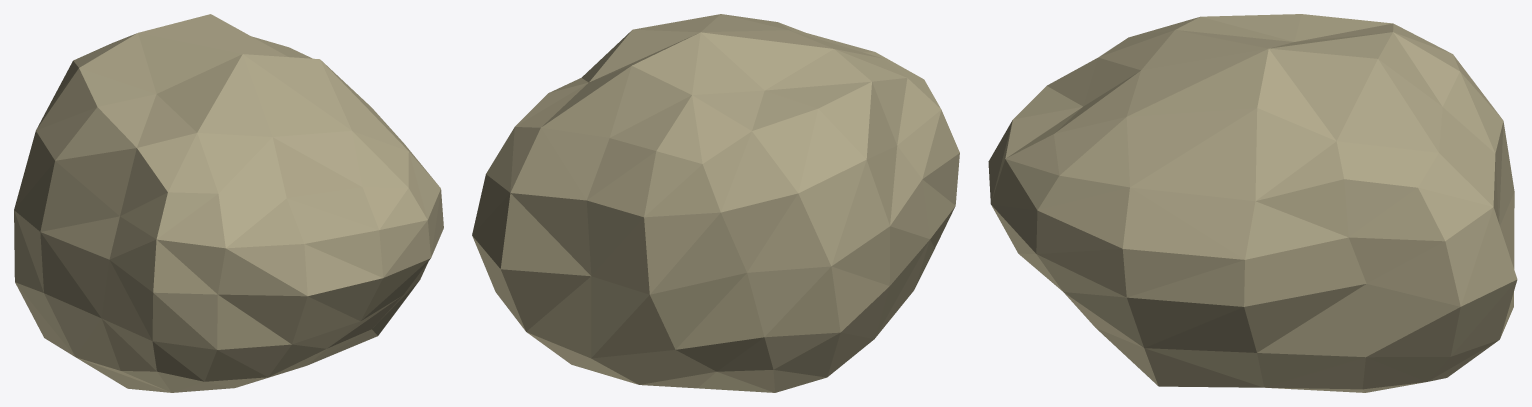
The model's file is _ock3.fbx.
3 renders of one model, left to right at view 1: azimuth 30°, elevation 25°; view 2: azimuth 150°, elevation 25°; view 3: azimuth 270°, elevation 25°, orthographic. The views are drawn at different scales.
Parts seen in each view (by area): view 1: Rock; view 2: Rock; view 3: Rock.
Boxes of the visible parts, box(x1,y1,x2,y2) form: Rock: box(14, 14, 443, 392); Rock: box(472, 14, 959, 392); Rock: box(988, 14, 1517, 392).
Size of the model in its own units: 299 by 252 by 354.
